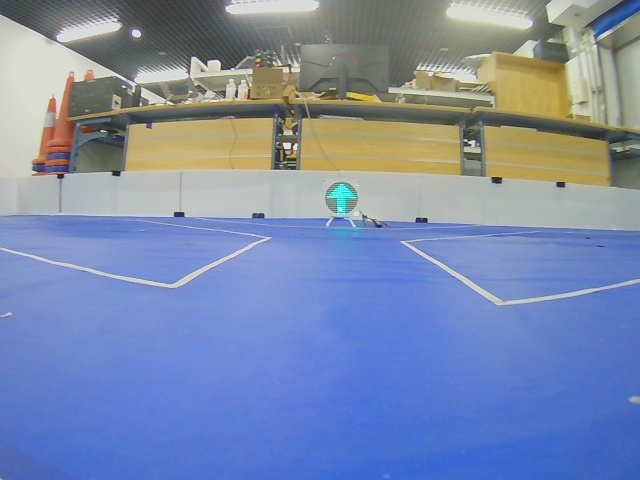straight_green: (325, 182, 358, 216)
